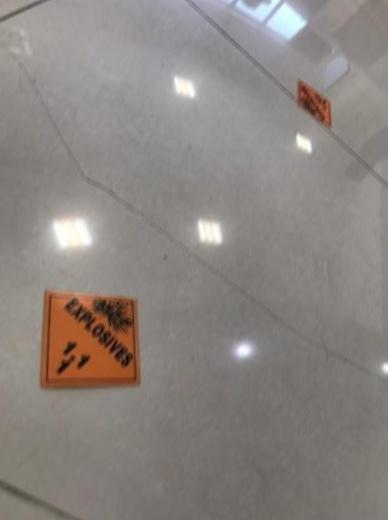explosive: (37, 284, 141, 393), (295, 78, 333, 128)
